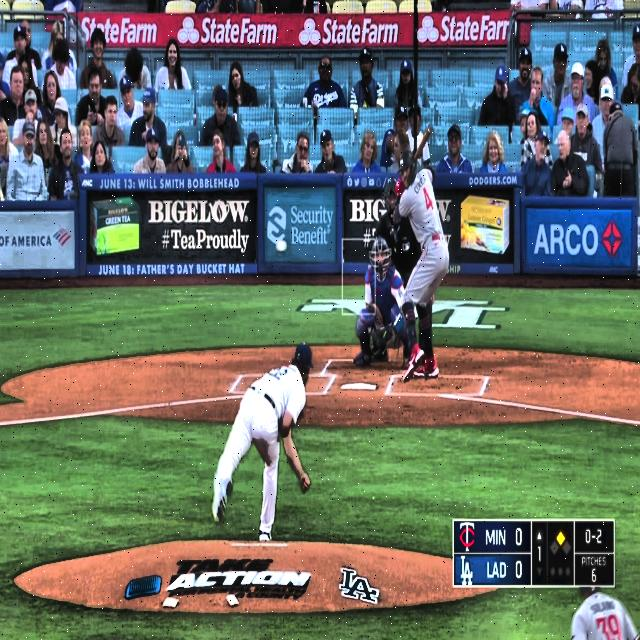baseball: (275, 239, 287, 254)
